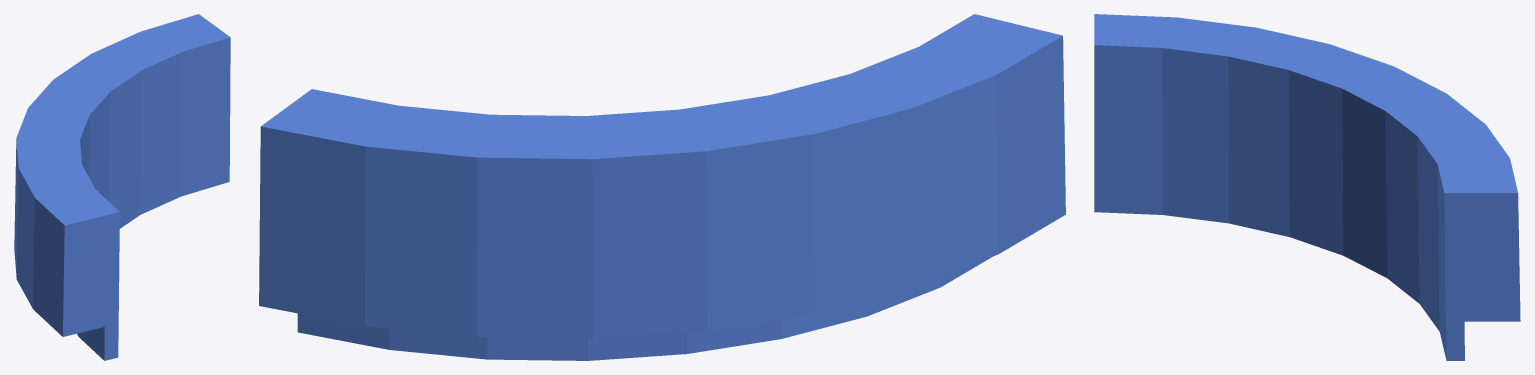
File: TopPlastic_Corner_Round_Outer_Collision.fbx
The picture shows the model from 3 angles, left to right: view 1: azimuth 30°, elevation 25°; view 2: azimuth 150°, elevation 25°; view 3: azimuth 270°, elevation 25°; orthographic projection. The views are drawn at different scales.
Visible parts, largest first — view 1: TopPlastic_Corner_Round_Outer_Collision; view 2: TopPlastic_Corner_Round_Outer_Collision; view 3: TopPlastic_Corner_Round_Outer_Collision.
Boxes of the visible parts, x1=… form: TopPlastic_Corner_Round_Outer_Collision: x1=14, y1=14, x2=230, y2=360; TopPlastic_Corner_Round_Outer_Collision: x1=259, y1=14, x2=1065, y2=360; TopPlastic_Corner_Round_Outer_Collision: x1=1094, y1=14, x2=1520, y2=360.
Bounding box in the file's own units: 460 × 200 × 460.
